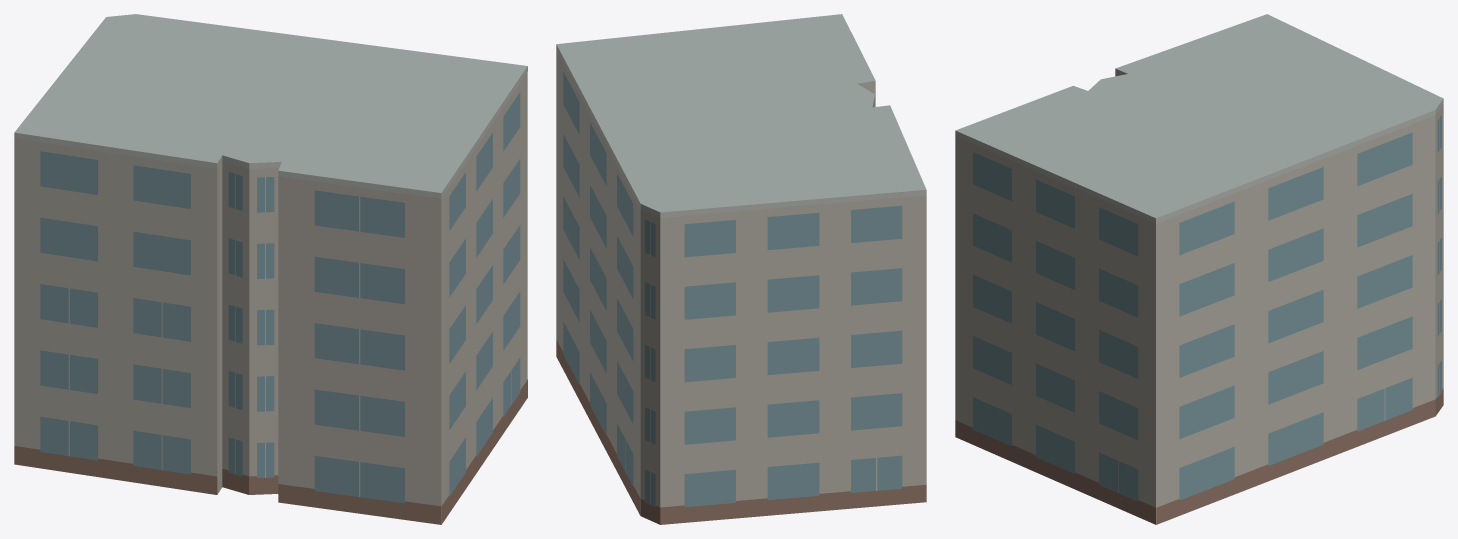
The model's file is survey-upis-32772409.glb.
3 views of the same model, side by side, from view 1: azimuth 30°, elevation 25°; view 2: azimuth 150°, elevation 25°; view 3: azimuth 270°, elevation 25° (orthographic). The views are drawn at different scales.
Visible parts, largest first — view 1: survey-upis-32772409.tmp; view 2: survey-upis-32772409.tmp; view 3: survey-upis-32772409.tmp.
Part boxes in pixels (bbox=[...]): survey-upis-32772409.tmp: bbox=[14, 14, 527, 524]; survey-upis-32772409.tmp: bbox=[556, 14, 926, 524]; survey-upis-32772409.tmp: bbox=[955, 14, 1443, 524].
Size of the model in its own units: 20.12 by 14.07 by 20.32.
